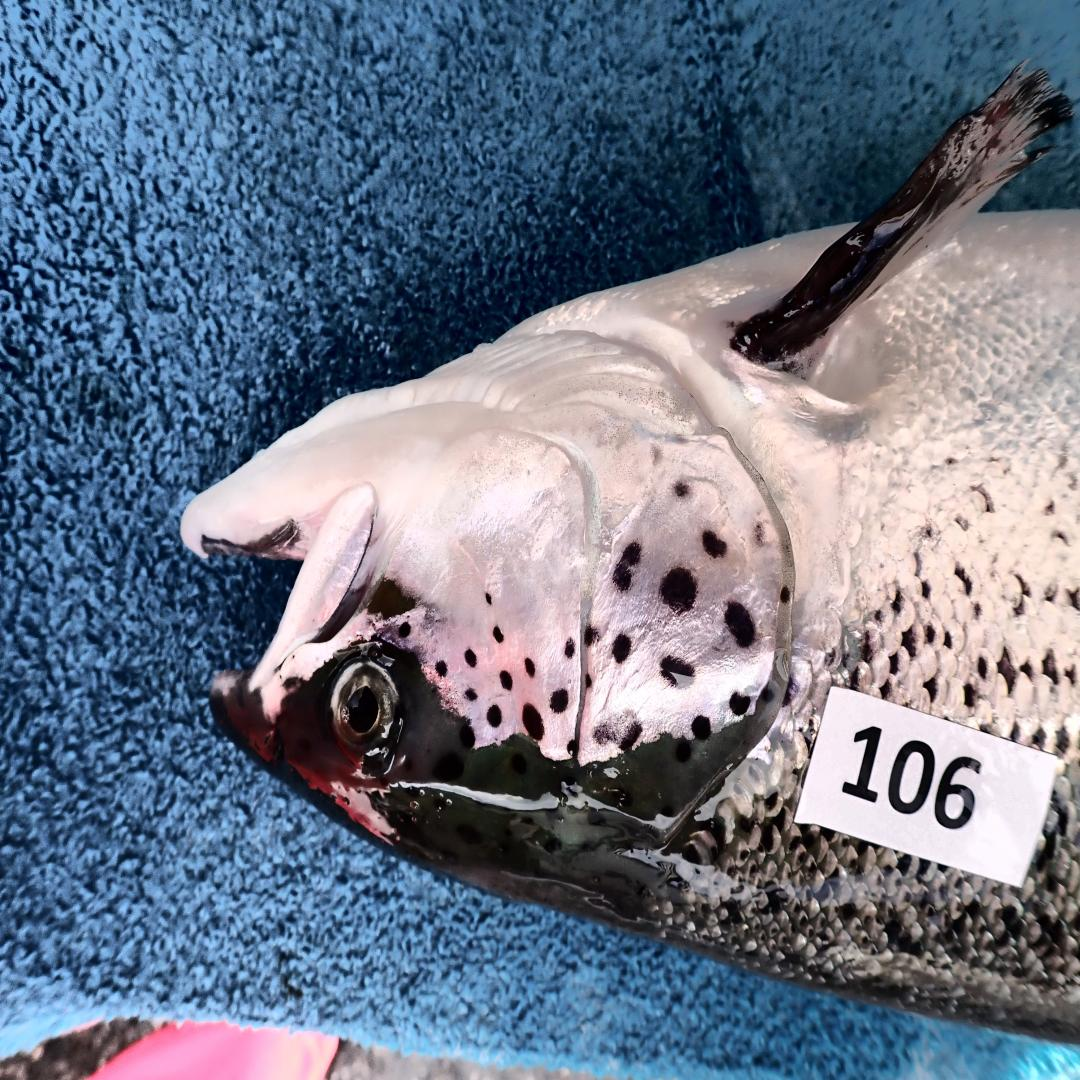spot: (660, 567, 698, 613), (724, 601, 755, 647), (613, 542, 641, 591), (660, 655, 694, 687), (523, 703, 544, 740), (702, 529, 728, 557), (592, 723, 617, 747), (612, 633, 631, 664), (620, 723, 641, 751), (550, 689, 570, 714), (692, 714, 711, 740), (730, 692, 751, 715), (487, 703, 502, 728), (584, 627, 599, 647), (500, 669, 513, 692), (673, 481, 690, 498), (464, 648, 477, 669), (754, 523, 765, 544), (565, 638, 576, 658), (525, 658, 536, 678), (435, 661, 447, 678), (493, 626, 504, 644), (780, 585, 791, 603), (399, 622, 411, 638), (464, 688, 477, 702), (567, 739, 577, 757), (586, 675, 593, 686), (485, 593, 491, 605)
